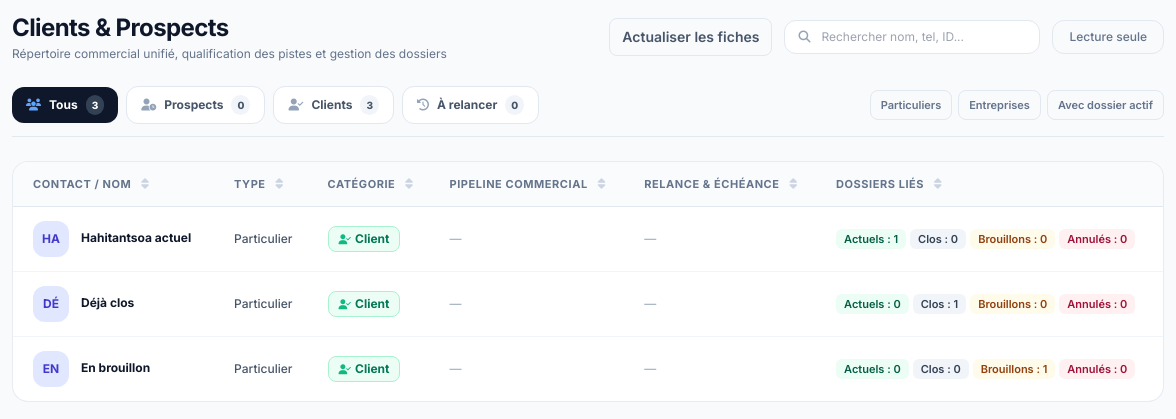
Customer commercial columns › includes Hahitantsoa active dossiers and excludes closed-only and draft-only contacts from active filter
Expected: the text "Hahitantsoa actuel" is shown, [81,230,191,246]
Step 1. Click the button "Avec dossier actif" → (1105, 105), box [1047,90,1164,120]
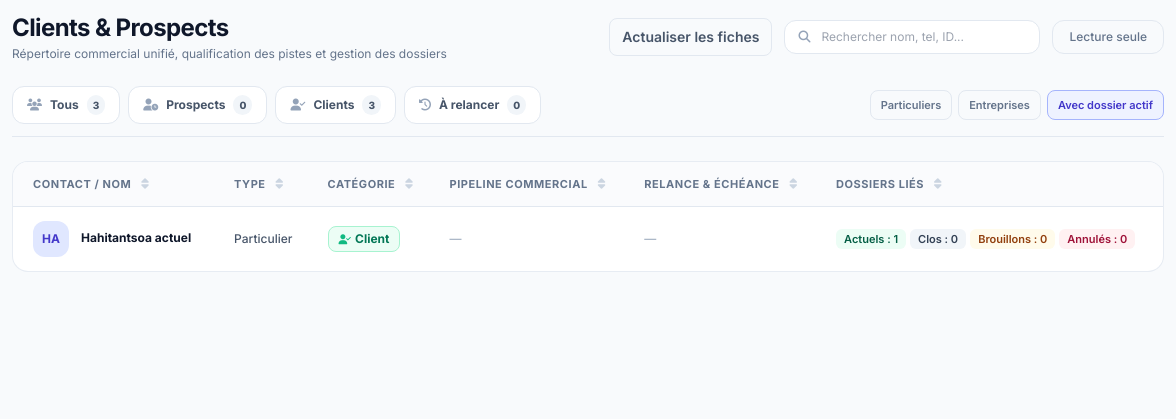
Expected: the text "Hahitantsoa actuel" is shown, [81,230,191,246]
Now the button "Déjà clos" is gone
Now the button "En brouillon" is gone
